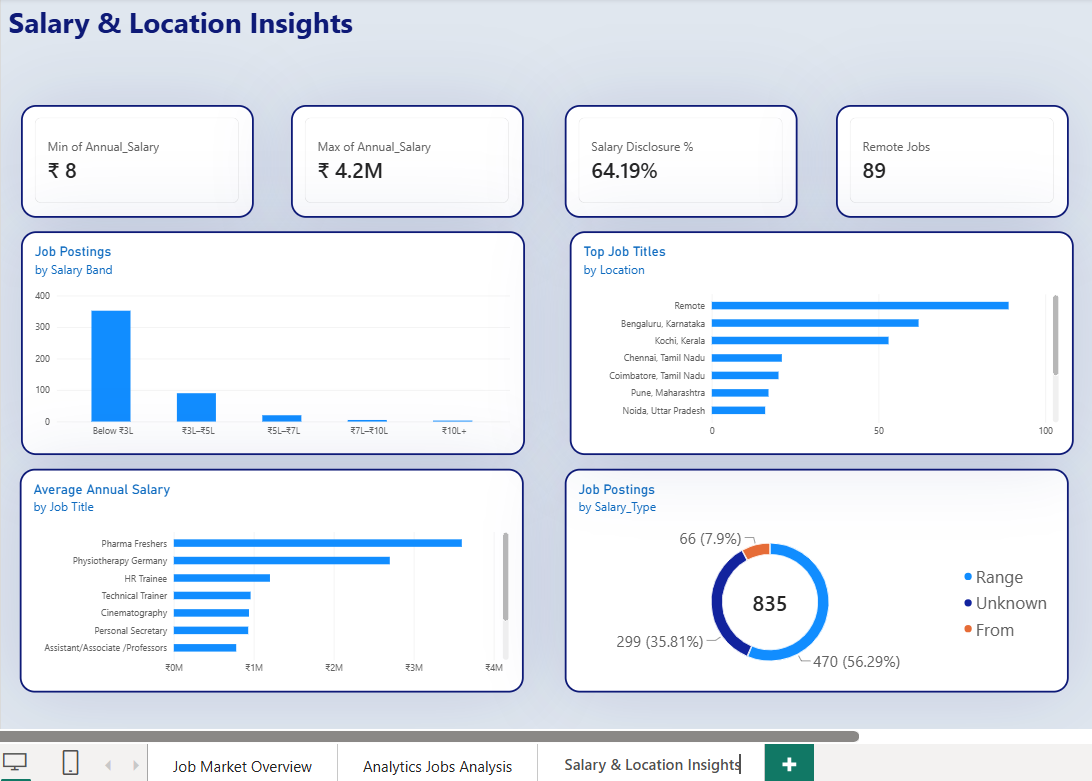

The page's visual inventory and layout, read from the dashboard file:
{"tool":"powerbi","page":{"name":"Salary & Location Insights","canvas":[1920,1080],"ordinal":2},"visuals":[{"type":"textbox","box":[10,16.7,461.7,58.3],"z":0},{"type":"cardVisual","fields":{"Data":["Min(job_market_cleaned.Annual_Salary_Min)"]},"box":[26.7,153.3,310,150],"z":1000},{"type":"cardVisual","fields":{"Data":["Max(job_market_cleaned.Annual_Salary_Max)"]},"box":[386.7,153.3,310,150],"z":2000},{"type":"cardVisual","fields":{"Data":["job_market_cleaned.Salary Disclosure Percentage"]},"box":[751.7,153.3,310,150],"z":3000},{"type":"cardVisual","fields":{"Data":["job_market_cleaned.Remote Jobs"]},"box":[1113.3,153.3,310,150],"z":4000},{"type":"clusteredColumnChart","fields":{"Category":["job_market_cleaned.Salary Band"],"Y":["CountNonNull(job_market_cleaned.Job Title)"]},"box":[26.7,321.7,671.7,298.3],"z":5000},{"type":"clusteredBarChart","fields":{"Category":["job_market_cleaned.Job Title"],"Y":["job_market_cleaned.Average Annual Salary"]},"box":[25,638.3,671.7,298.3],"z":6000},{"type":"donutChart","fields":{"Category":["job_market_cleaned.Salary_Type"],"Y":["CountNonNull(job_market_cleaned.Job Title)"]},"box":[751.7,638.3,671.7,298.3],"z":7000},{"type":"clusteredBarChart","fields":{"Category":["job_market_cleaned.Location"],"Y":["CountNonNull(job_market_cleaned.Job Title)"]},"box":[758.3,321.7,671.7,298.3],"z":8000}]}

Visuals, with their boxes on the page's 1920x1080 design canvas (x1, y1, x2, y2). These are canvas units, not pixel positions in the 1092x781 screenshot, which may show the page scaled, cropped or inside an application window:
textbox: box=[10, 17, 472, 75]
cardVisual - Min(job_market_cleaned.Annual_Salary_Min): box=[27, 153, 337, 303]
cardVisual - Max(job_market_cleaned.Annual_Salary_Max): box=[387, 153, 697, 303]
cardVisual - job_market_cleaned.Salary Disclosure Percentage: box=[752, 153, 1062, 303]
cardVisual - job_market_cleaned.Remote Jobs: box=[1113, 153, 1423, 303]
clusteredColumnChart - job_market_cleaned.Salary Band x CountNonNull(job_market_cleaned.Job Title): box=[27, 322, 698, 620]
clusteredBarChart - job_market_cleaned.Job Title x job_market_cleaned.Average Annual Salary: box=[25, 638, 697, 937]
donutChart - job_market_cleaned.Salary_Type x CountNonNull(job_market_cleaned.Job Title): box=[752, 638, 1423, 937]
clusteredBarChart - job_market_cleaned.Location x CountNonNull(job_market_cleaned.Job Title): box=[758, 322, 1430, 620]
